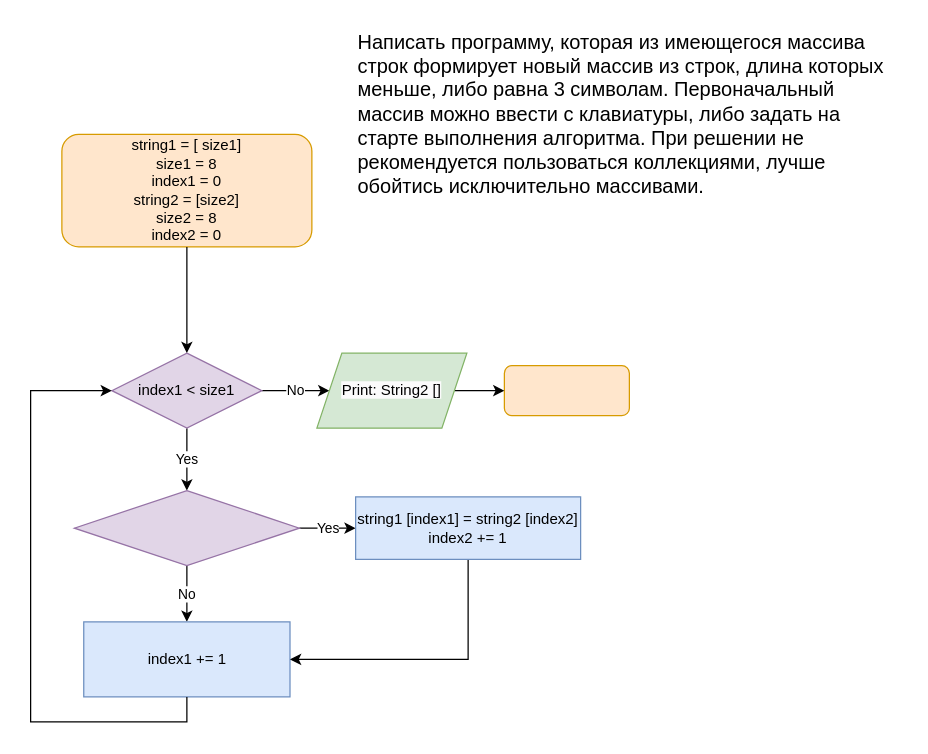
The diagram is 928 pixels wide and 754 high, and some of its shapes have lost their labels. Here are the shapes that lost their labels. From the top down, the centre of each, then its label:
At point 566,390: "End".
At point 186,527: "string1 [index1] <= 3 sings".
